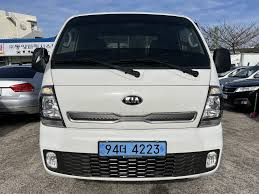car: (96, 137, 169, 159)
